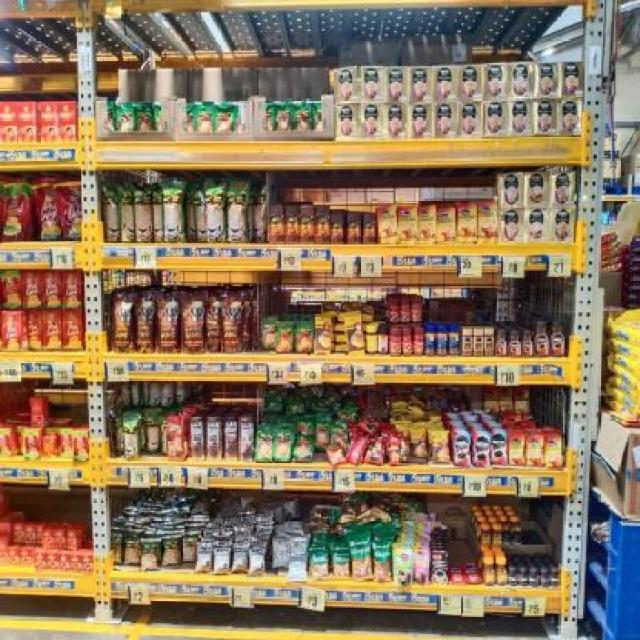Coffee: (478, 202, 498, 244), (458, 205, 477, 243), (378, 208, 397, 244), (398, 208, 417, 244), (418, 208, 436, 244), (437, 208, 455, 244), (454, 434, 471, 466), (491, 432, 507, 465), (475, 434, 491, 466), (509, 435, 525, 465), (546, 438, 563, 466), (528, 437, 544, 466), (552, 321, 565, 355), (536, 322, 549, 356), (514, 389, 530, 412), (485, 388, 499, 411), (497, 560, 509, 586), (500, 386, 513, 409), (484, 559, 495, 586), (522, 332, 533, 356), (497, 330, 507, 356), (509, 331, 519, 357), (473, 328, 482, 356), (485, 328, 494, 355), (492, 523, 503, 545), (463, 330, 472, 356), (481, 523, 491, 545), (540, 569, 549, 587), (509, 569, 517, 587), (551, 570, 560, 586), (520, 569, 528, 586), (530, 570, 538, 587)
